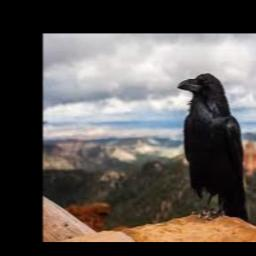Crow: (177, 73, 248, 222)
